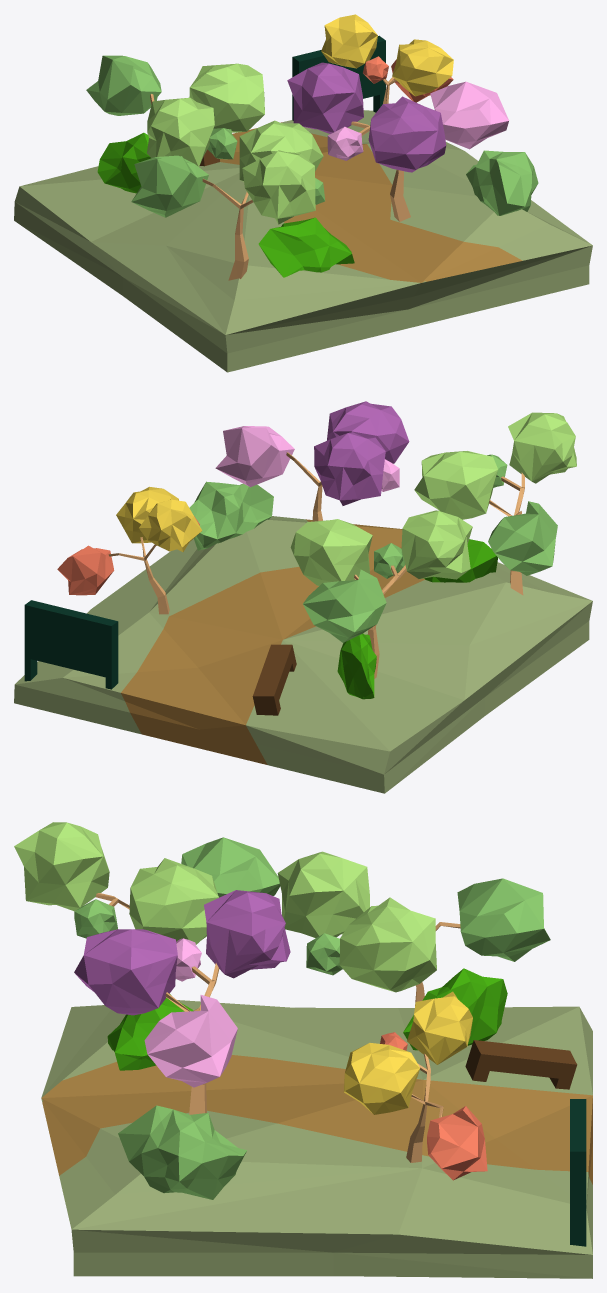
The model's file is building_park.fbx.
3 renders of one model, top to bottom at view 1: azimuth 30°, elevation 25°; view 2: azimuth 150°, elevation 25°; view 3: azimuth 270°, elevation 25°, orthographic. The views are drawn at different scales.
Visible parts, largest first — view 1: tree2.003; view 2: tree2.003; view 3: tree2.003.
Boxes of the visible parts, box(x1,y1,x2,y2) form: tree2.003: box(14, 14, 592, 372); tree2.003: box(14, 401, 592, 793); tree2.003: box(14, 822, 592, 1278).
Size of the model in its own units: 55.84 by 28.5 by 55.76.
